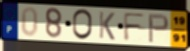0: (20, 6, 40, 38)
8: (44, 7, 63, 40)
F: (122, 12, 148, 42)
K: (98, 10, 116, 42)
O: (72, 8, 94, 41)
P: (147, 13, 170, 44)
